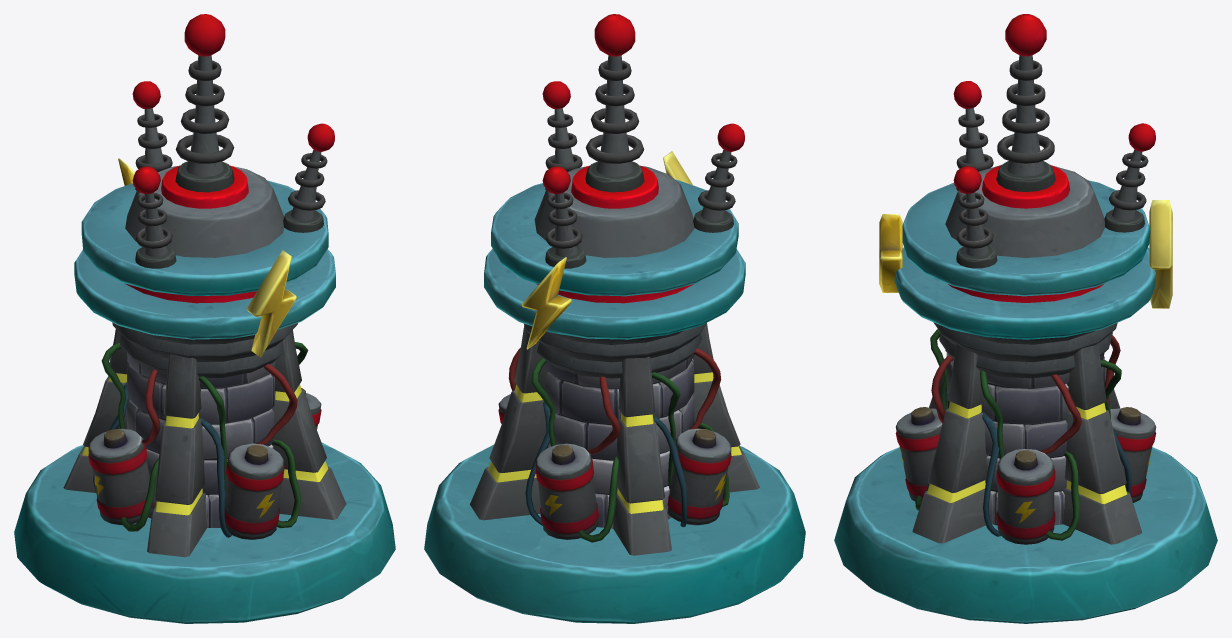
Rendered from SM_TowerDefense_Electric_Lv3.fbx.
3 renders of one model, left to right at view 1: azimuth 30°, elevation 25°; view 2: azimuth 150°, elevation 25°; view 3: azimuth 270°, elevation 25°, orthographic.
Parts seen in each view (by area): view 1: SM_TowerDefense_Electric_Lv3; view 2: SM_TowerDefense_Electric_Lv3; view 3: SM_TowerDefense_Electric_Lv3.
Part boxes in pixels (bbox=[...]): SM_TowerDefense_Electric_Lv3: bbox=[14, 14, 395, 623]; SM_TowerDefense_Electric_Lv3: bbox=[424, 14, 805, 623]; SM_TowerDefense_Electric_Lv3: bbox=[834, 14, 1217, 623].
Size of the model in its own units: 1031 by 1572 by 1031.
